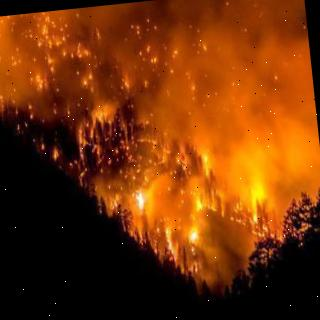fire: (87, 109, 279, 277), (135, 0, 310, 104), (0, 27, 137, 124), (0, 3, 117, 31)
